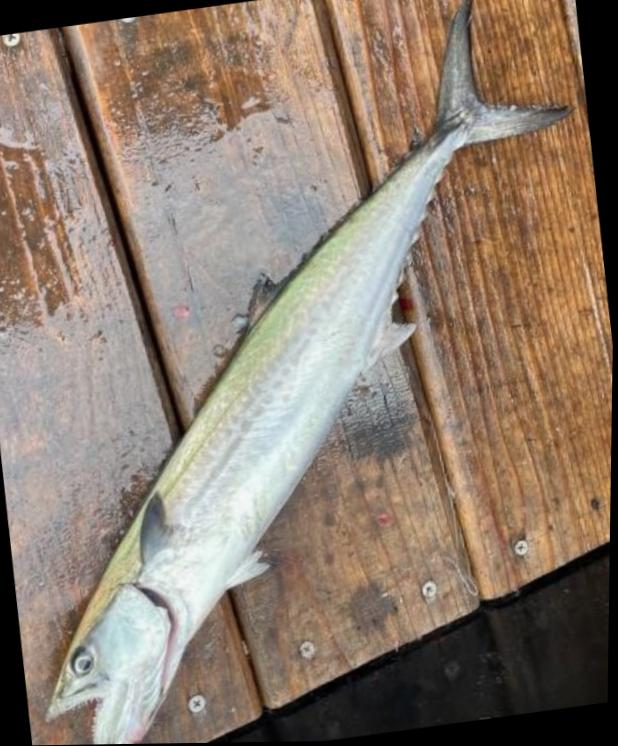fish: (51, 0, 571, 745)
